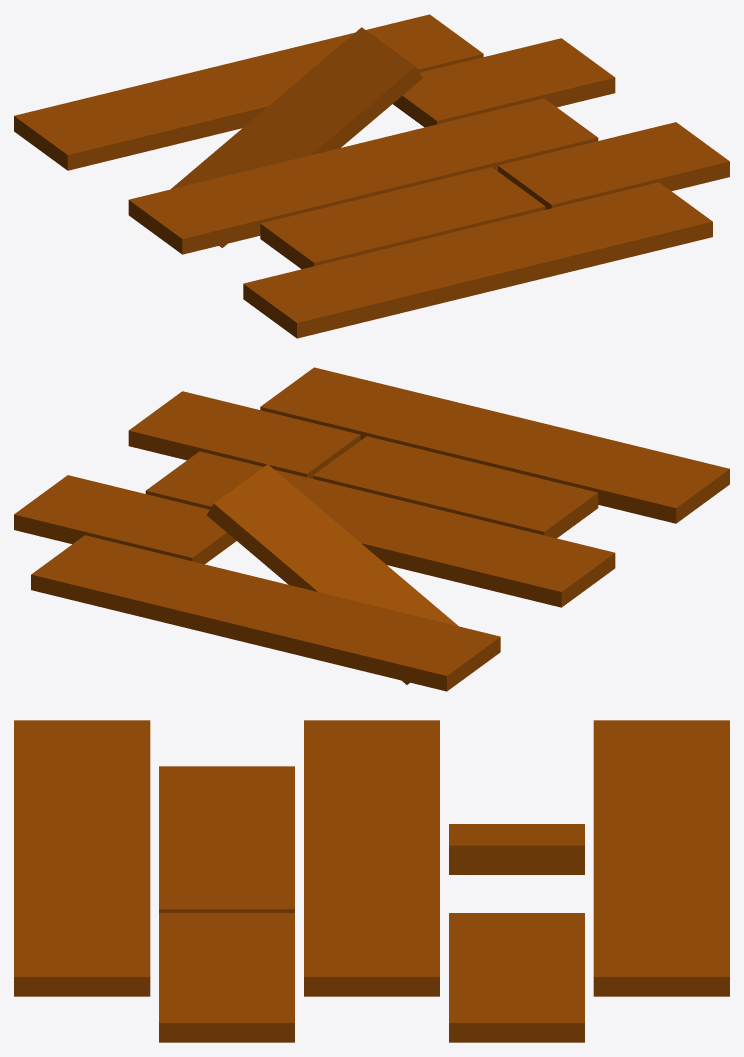
The model's file is RPG_Tiles_Square_Wooden_Boards_01.FBX.
The picture shows the model from 3 angles, top to bottom: view 1: azimuth 30°, elevation 25°; view 2: azimuth 150°, elevation 25°; view 3: azimuth 270°, elevation 25°; orthographic projection. The views are drawn at different scales.
Visible parts, largest first — view 1: RPG_Tiles_Square_Wooden_Boards_01; view 2: RPG_Tiles_Square_Wooden_Boards_01; view 3: RPG_Tiles_Square_Wooden_Boards_01.
Boxes of the visible parts, x1,y1,x2,y2 form: RPG_Tiles_Square_Wooden_Boards_01: (14,14,729,338); RPG_Tiles_Square_Wooden_Boards_01: (14,367,729,691); RPG_Tiles_Square_Wooden_Boards_01: (14,720,729,1042).
Size of the model in its own units: 2964 by 778 by 2964.
